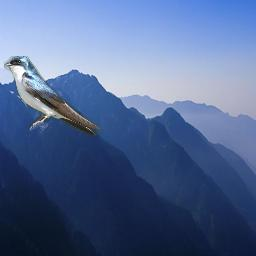Swallow: (4, 56, 101, 136)
